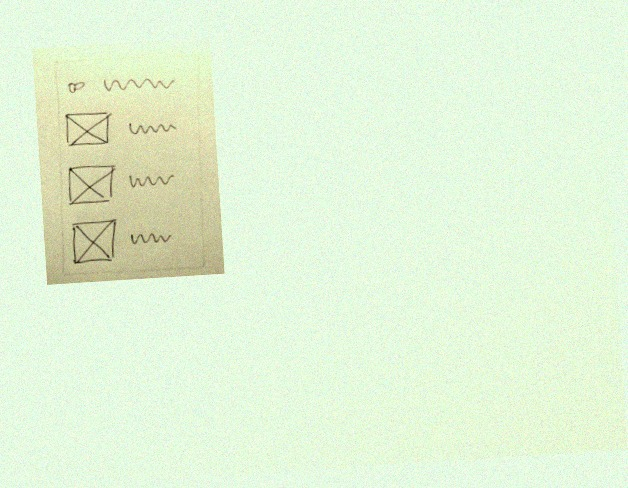image: (68, 218, 122, 268), (64, 162, 120, 209), (62, 106, 115, 152)
switch: (64, 76, 88, 96)
text: (99, 71, 178, 99), (123, 115, 179, 139), (126, 170, 177, 194), (129, 227, 174, 250)
